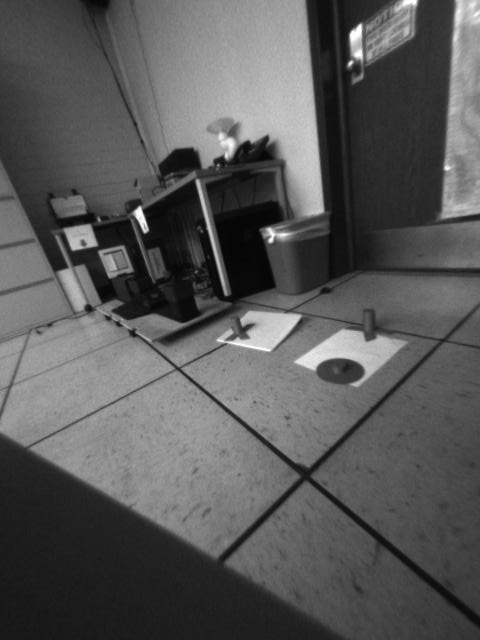X: (347, 307, 381, 342), (223, 314, 253, 343)
